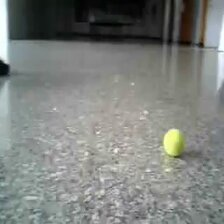tennis: (163, 128, 186, 157)
